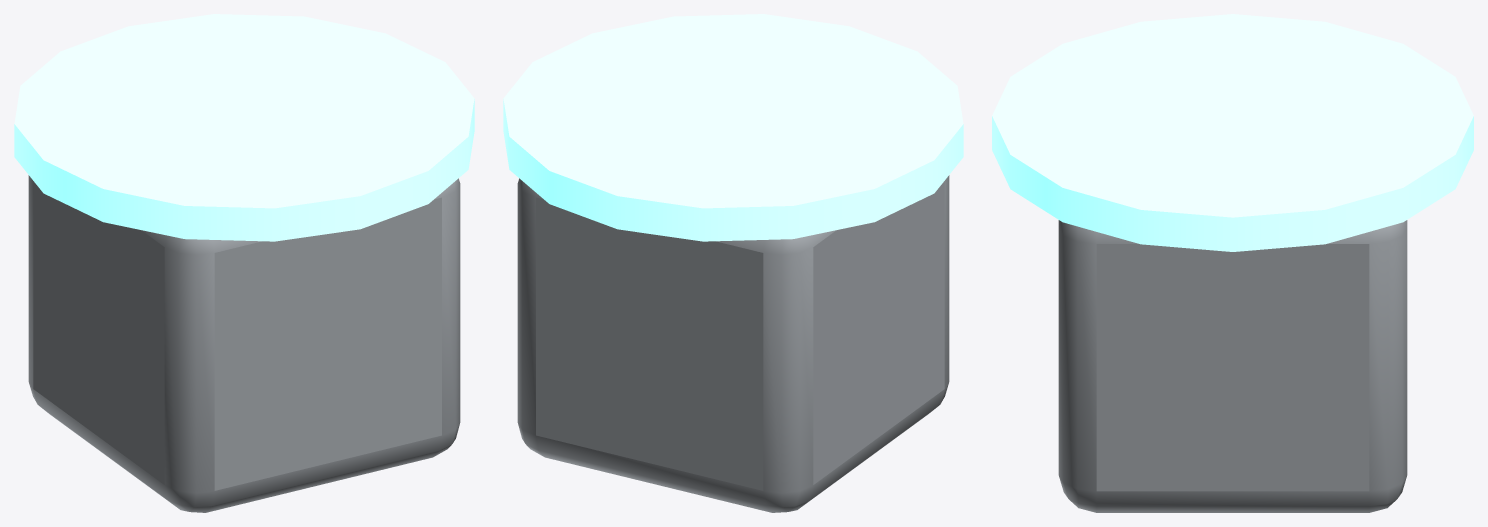
The model's file is relic.glb.
3 views of the same model, side by side, from view 1: azimuth 30°, elevation 25°; view 2: azimuth 150°, elevation 25°; view 3: azimuth 270°, elevation 25° (orthographic). The views are drawn at different scales.
Visible parts, largest first — view 1: Body, Ring; view 2: Body, Ring; view 3: Body, Ring.
Part boxes in pixels (x1,y1,x2,y2): Body: (28,175,460,512); Ring: (14,14,474,241); Body: (517,175,949,512); Ring: (503,14,963,241); Body: (1058,220,1407,512); Ring: (992,14,1473,251).
Bounding box in the file's own units: 0.76 × 0.585 × 0.76.
